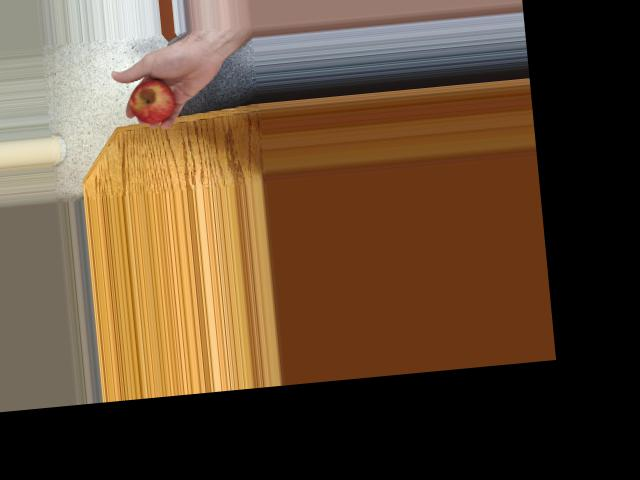apple: (121, 70, 195, 129)
